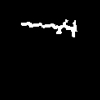double_crochet: (21, 20, 76, 36)
